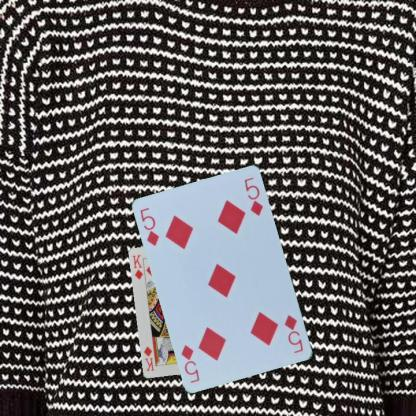5d: (138, 205, 161, 248), (282, 312, 304, 354)
Kd: (130, 252, 144, 281)
